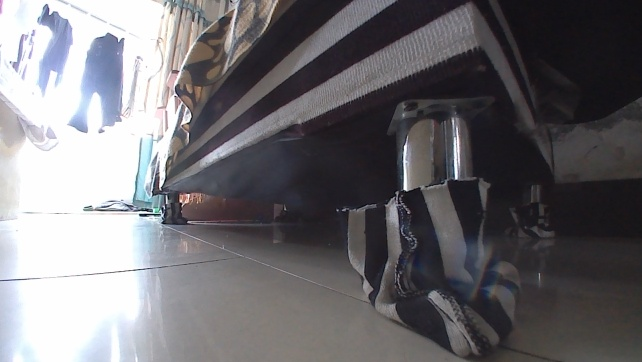sofa1: (152, 0, 560, 357)
